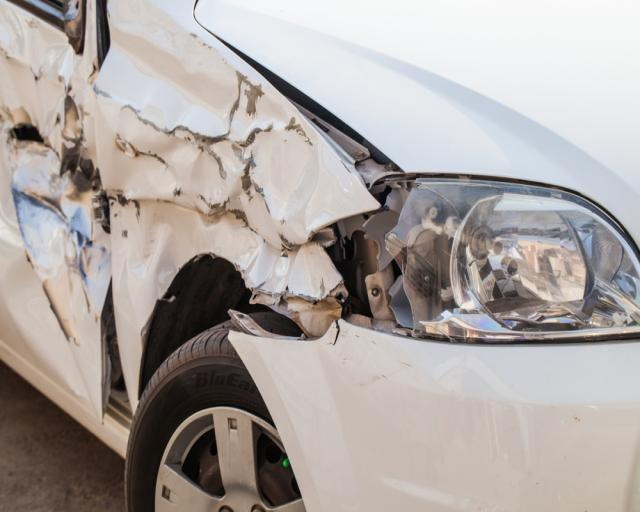crack: (7, 122, 62, 161), (325, 321, 340, 346)
dent: (88, 0, 352, 338), (0, 6, 112, 390)
lamp broken: (362, 176, 640, 343)
